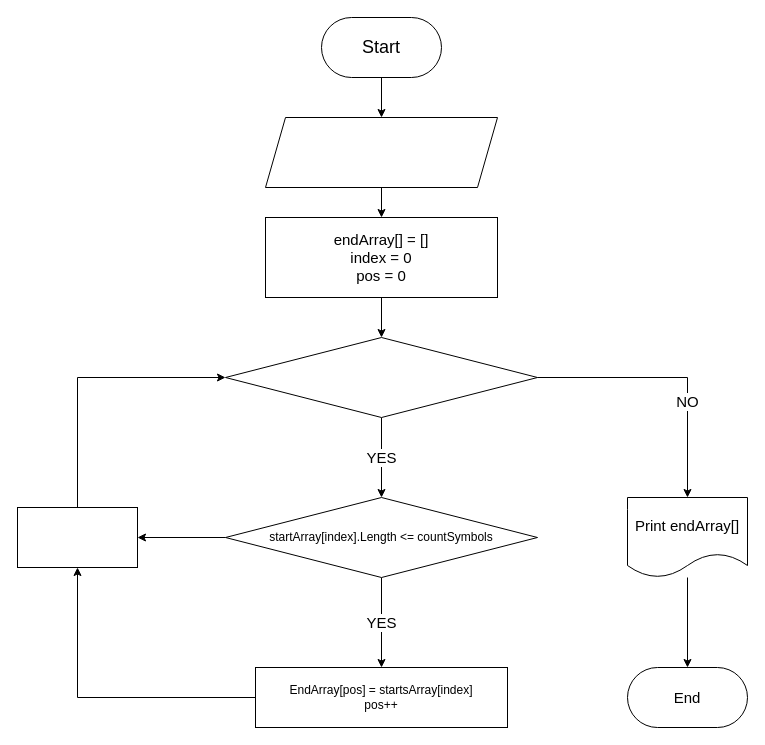
Image size: 765x745. Some labels were removed from this diagram. The centre of each missing label's shape, as x and y in pixels:
"index < startArray.Length" belongs at [381,377].
"index++" belongs at [77,537].
"startArray[] countSymbols" belongs at [381,152].
